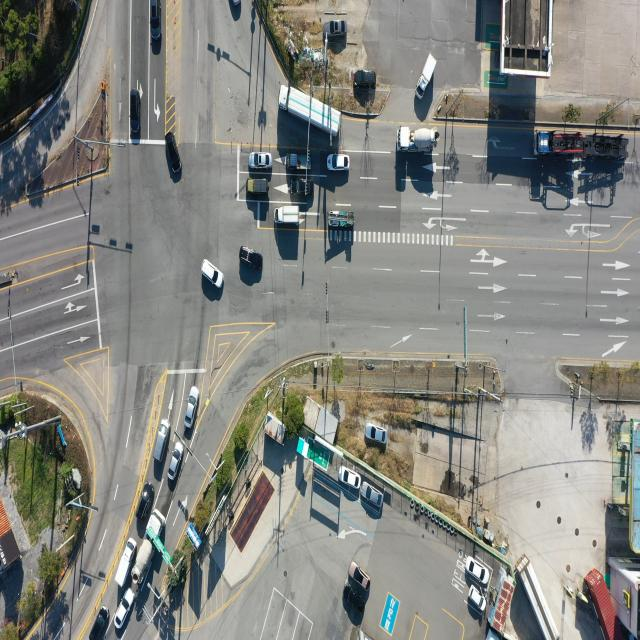car: (342, 585, 367, 618), (164, 128, 180, 179), (155, 418, 172, 464), (91, 601, 110, 640), (167, 440, 185, 480), (118, 590, 136, 630), (183, 386, 199, 430), (202, 260, 224, 292), (136, 483, 154, 522), (468, 556, 491, 584), (350, 562, 371, 591), (240, 246, 263, 271), (362, 483, 384, 508), (340, 465, 362, 488), (468, 585, 486, 612), (129, 93, 140, 135), (364, 424, 387, 443), (246, 177, 270, 195), (149, 0, 159, 43), (353, 69, 375, 88), (328, 153, 351, 171), (290, 182, 313, 200), (325, 20, 347, 38), (252, 152, 274, 168), (230, 0, 240, 7)
large_truck: (534, 130, 626, 165)
medium_truck: (519, 556, 562, 640), (278, 82, 338, 136), (132, 512, 164, 584), (398, 127, 439, 155)
small_truck: (117, 538, 138, 588), (416, 52, 436, 99), (329, 210, 356, 230), (274, 206, 300, 226), (288, 154, 312, 173)
